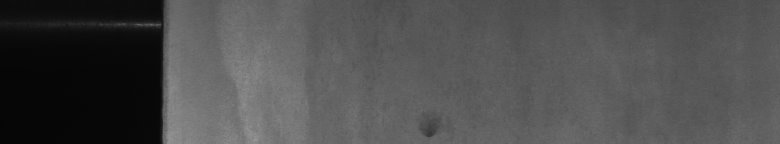fi: (417, 125, 446, 136)
